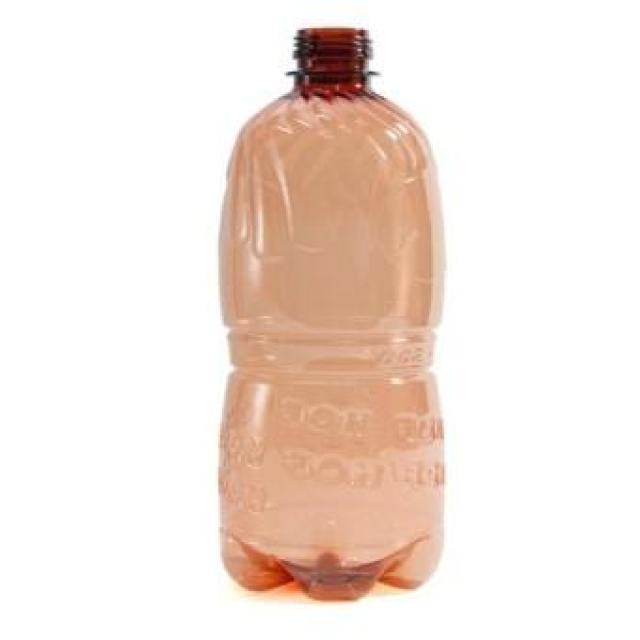good: (194, 9, 482, 606)
